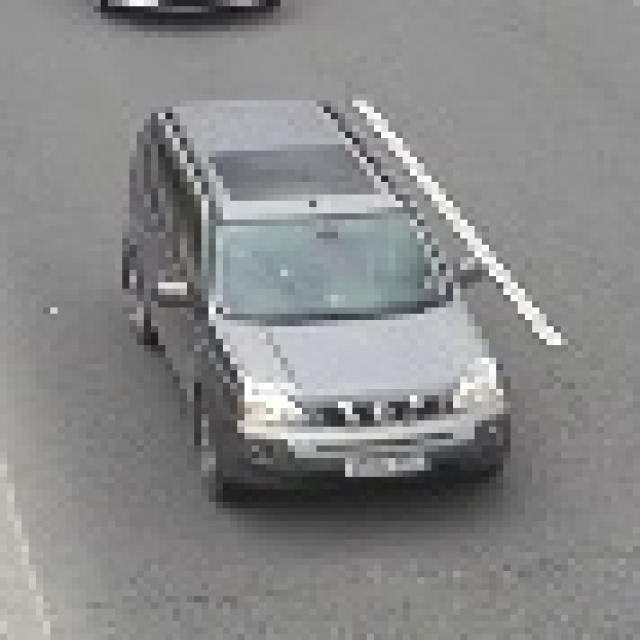SUV: (131, 107, 496, 491)
